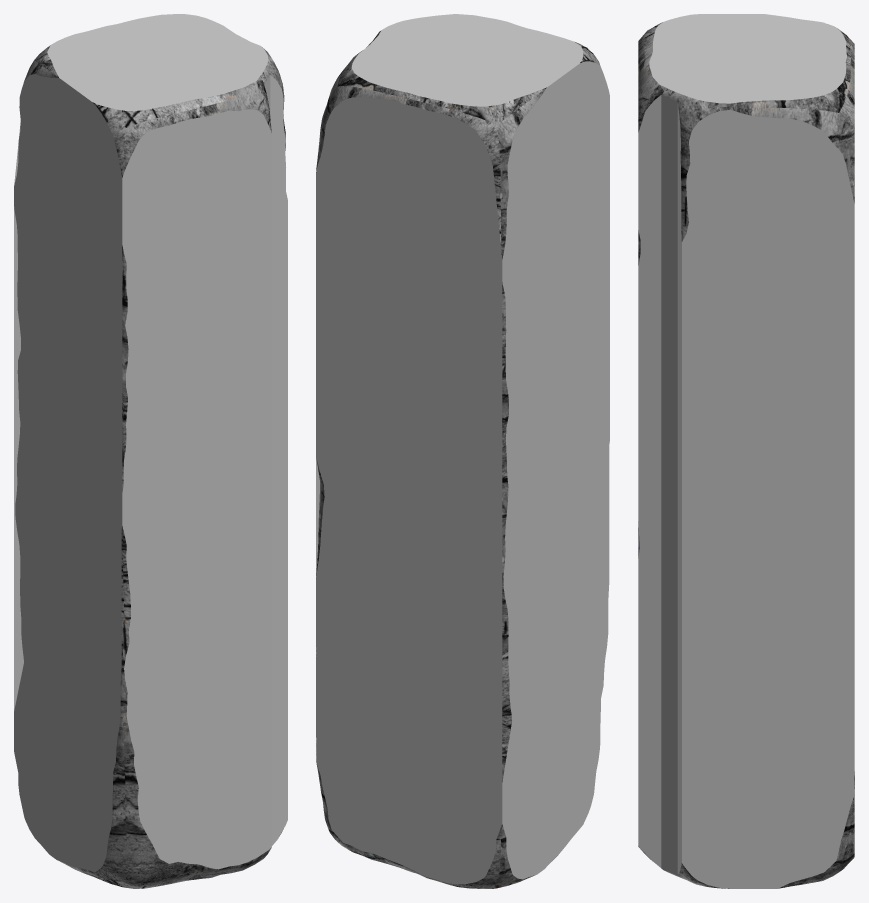
The model's file is SM_1x1-corner-out.fbx.
3 renders of one model, left to right at view 1: azimuth 30°, elevation 25°; view 2: azimuth 150°, elevation 25°; view 3: azimuth 270°, elevation 25°, orthographic.
Visible parts, largest first — view 1: SM_1x1-corner-out; view 2: SM_1x1-corner-out; view 3: SM_1x1-corner-out.
Part boxes in pixels (x1,y1,x2,y2): SM_1x1-corner-out: (14,14,287,888); SM_1x1-corner-out: (316,14,609,888); SM_1x1-corner-out: (638,14,854,888).
Bounding box in the file's own units: 100 × 400 × 100.
